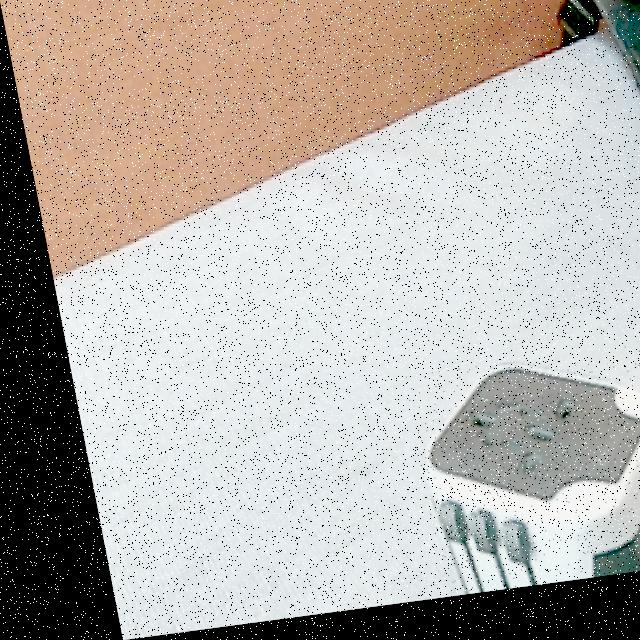adapter: (386, 359, 640, 606)
